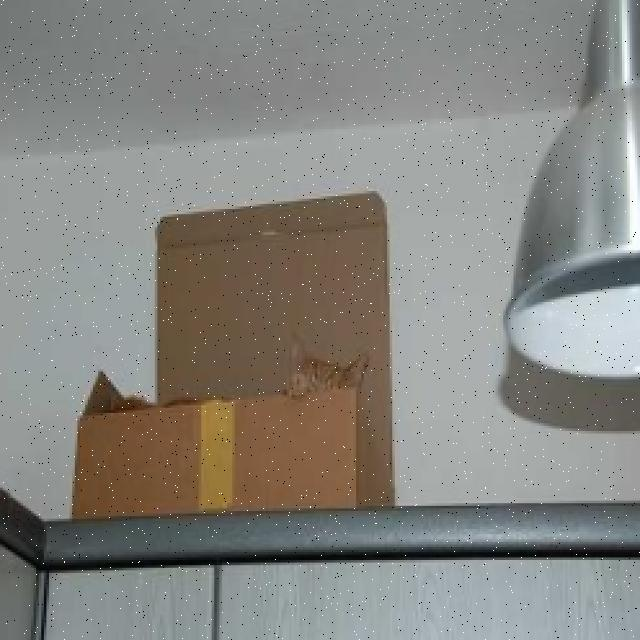box: (63, 163, 423, 539)
